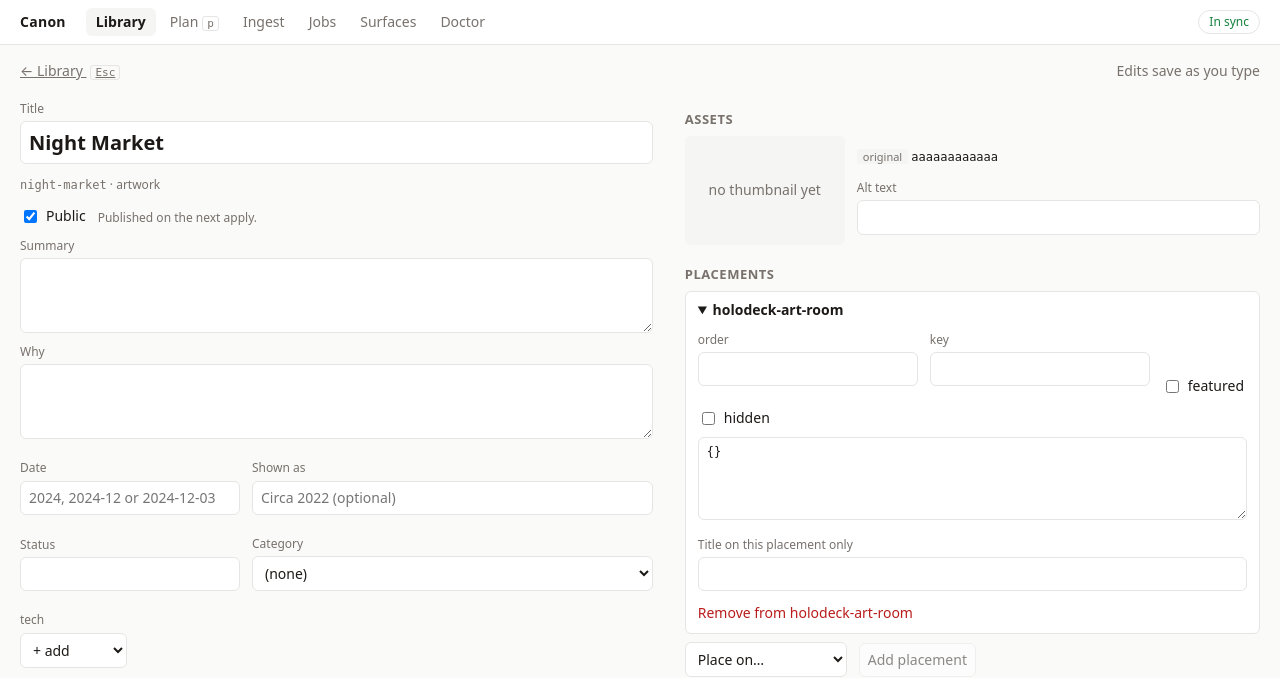
Test: Item editor › reapplies the change when the manifest moved underneath
Check: the field showing "Night Market" is shown, box [20,121,653,164]
In the text box labelled "Summary": (336, 296) [20,258,653,333], type "Hello"
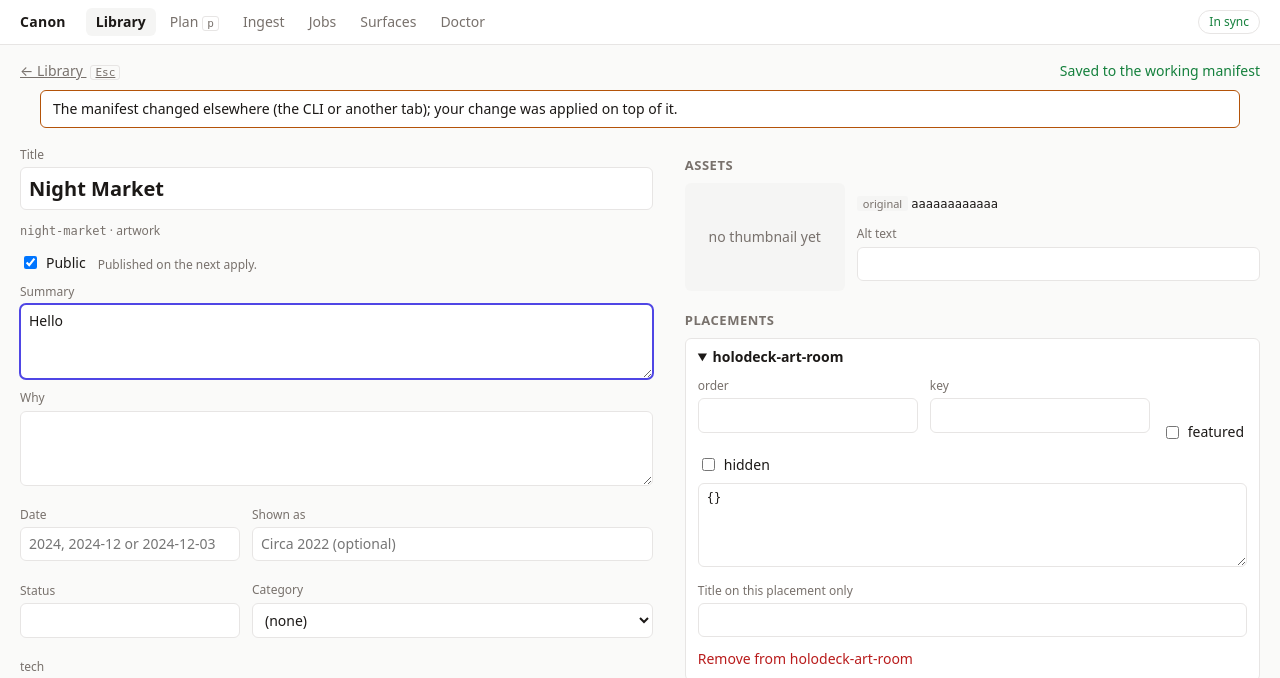
Check: the text "changed elsewhere" is shown, box [53,99,678,118]
Check: the text "Saved to the working manifest" is shown, box [1060,61,1260,82]
